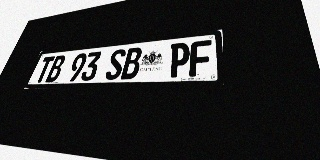3: (80, 51, 102, 81)
9: (66, 53, 88, 81)
B: (120, 47, 143, 79), (45, 55, 67, 82)
F: (189, 40, 211, 77)
P: (168, 42, 190, 78)
S: (104, 49, 127, 80)
T: (34, 56, 55, 83)
